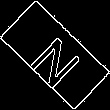N_NE: (24, 23, 86, 87)
